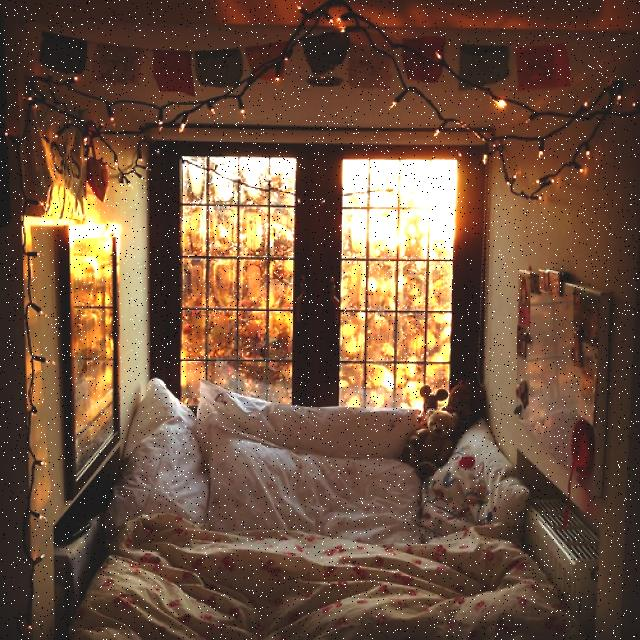bed: (93, 377, 558, 640)
